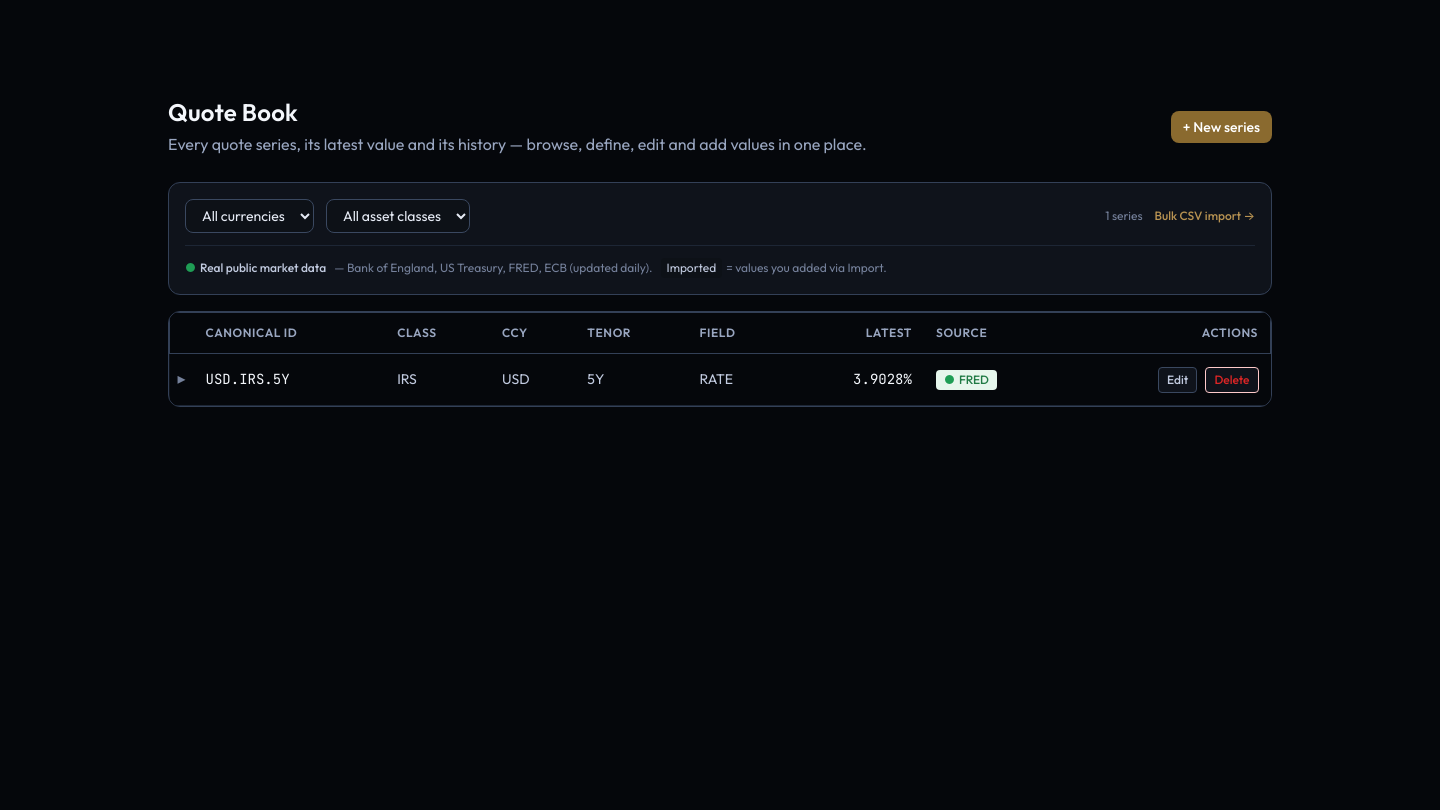
Test: QuoteBook (unified master-detail table) › delete opens a confirm dialog that warns values go too, then deletes
expect the text "USD.IRS.5Y" is shown: met, box [206, 370, 290, 388]
Click the button with aria-label "delete USD.IRS.5Y" at (1232, 380), box [1205, 367, 1258, 393]
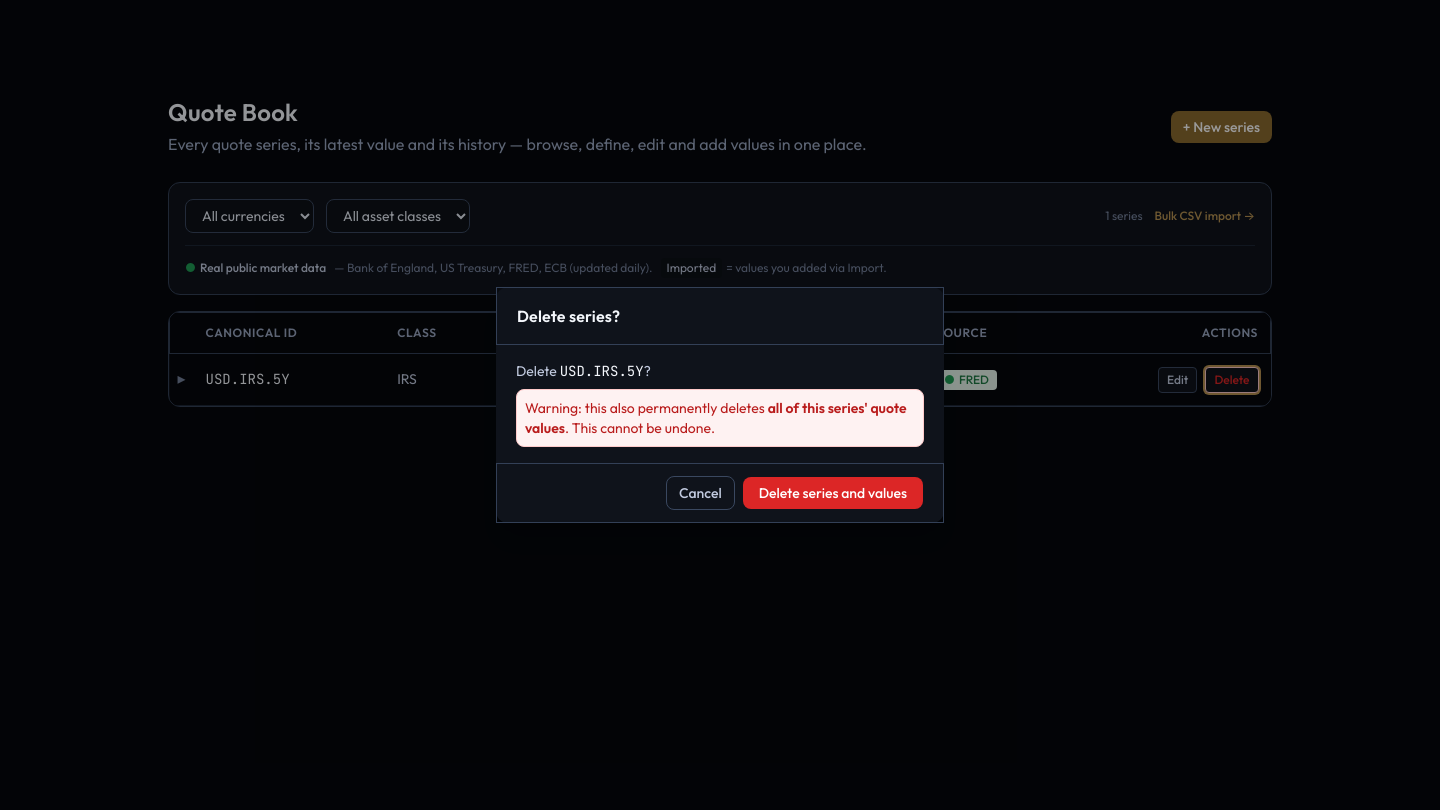
expect the text "all of this series' quote values" is shown: met, box [525, 399, 907, 437]
Click the button with aria-label "confirm delete" at (833, 493), box [743, 477, 923, 509]
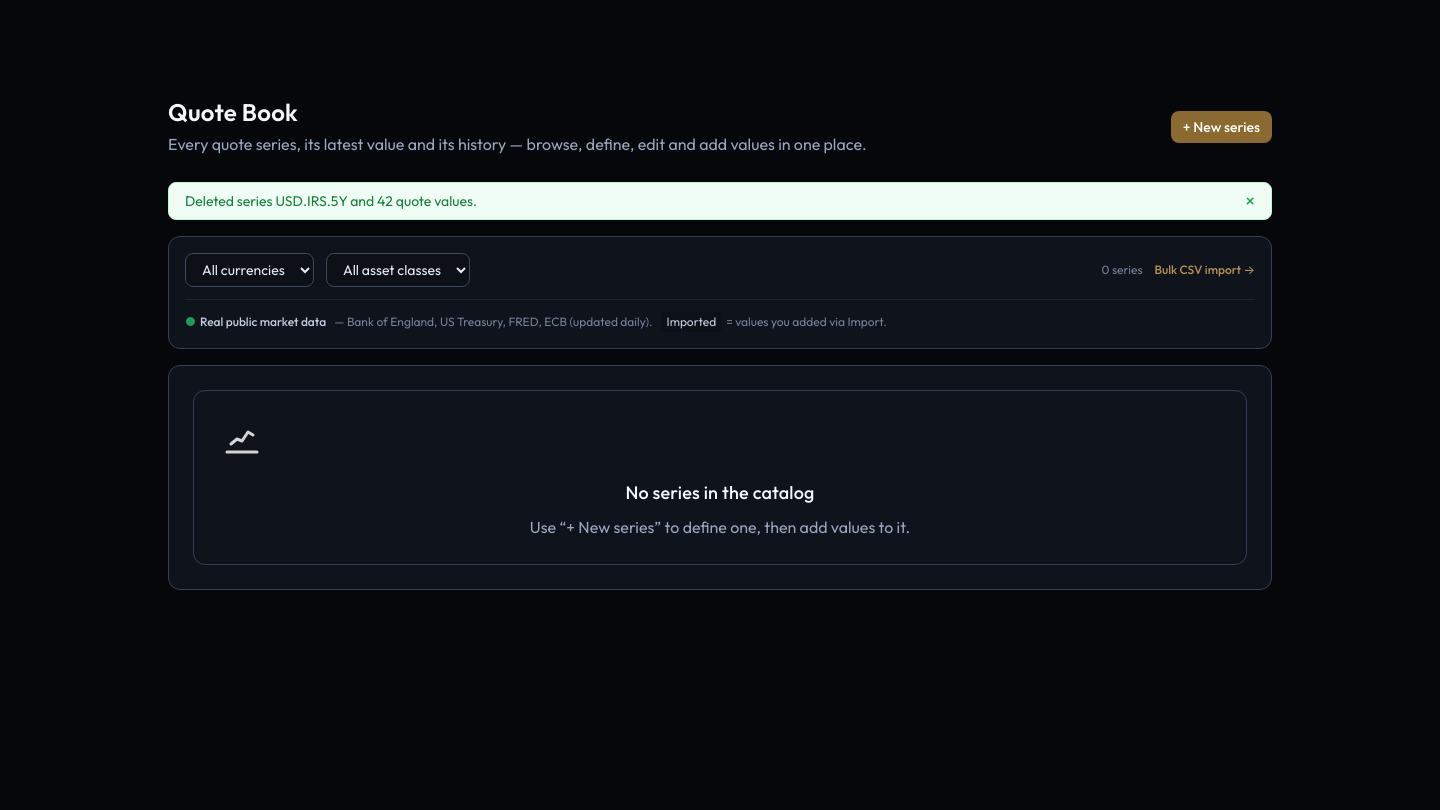
expect the text "Deleted series USD.IRS.5Y and 42 quote values." is shown: met, box [185, 191, 477, 211]
